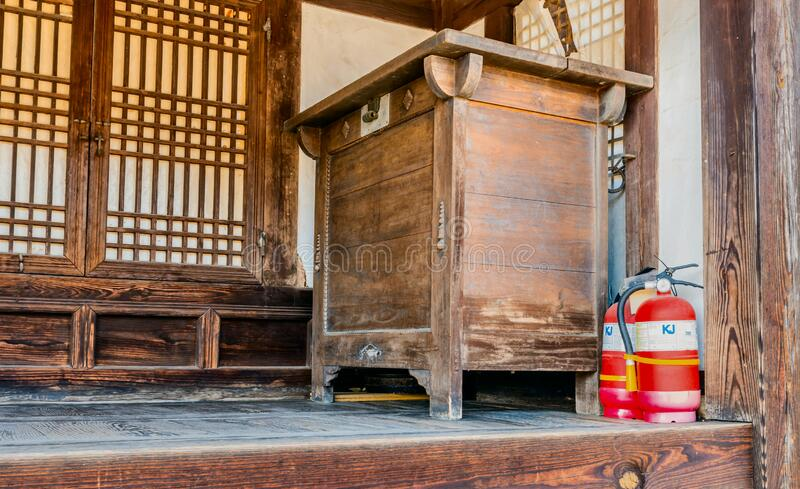fire_extinguisher: (616, 255, 704, 424), (598, 266, 657, 420)
